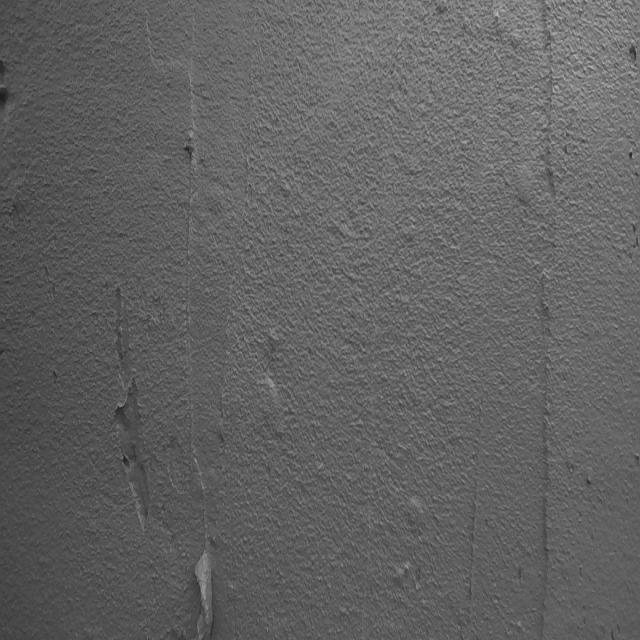trowels marks: (538, 21, 561, 640)
